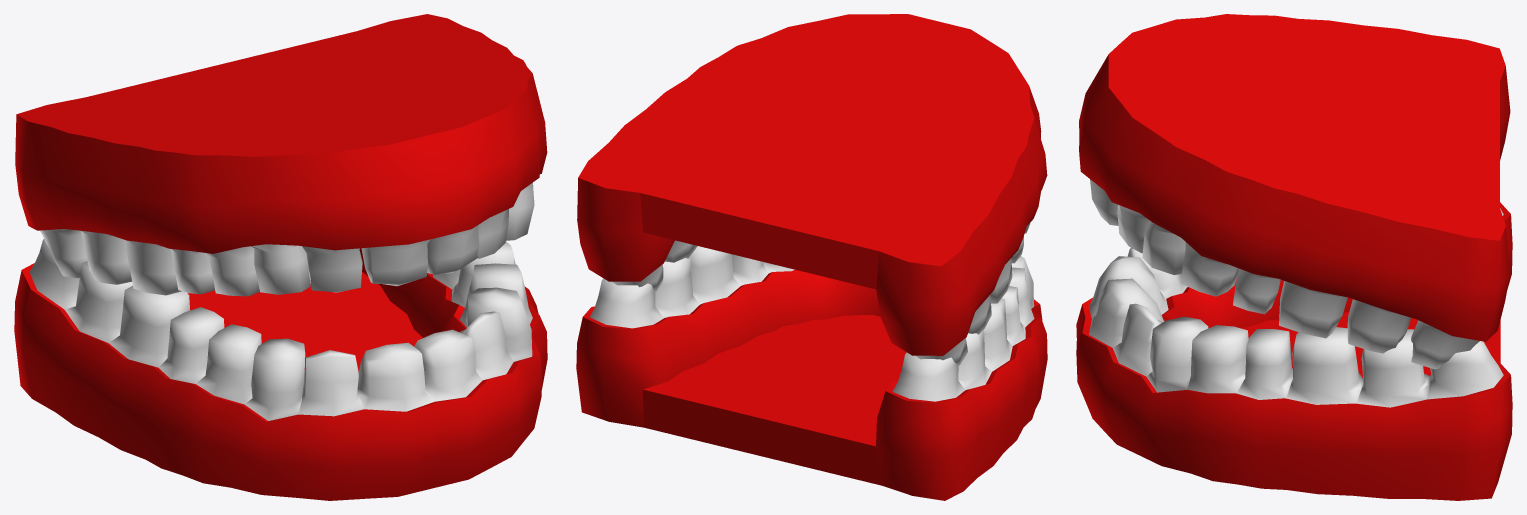
The model's file is SM_Teeth.fbx.
The picture shows the model from 3 angles, left to right: view 1: azimuth 30°, elevation 25°; view 2: azimuth 150°, elevation 25°; view 3: azimuth 270°, elevation 25°; orthographic projection. The views are drawn at different scales.
Visible parts, largest first — view 1: Teeth; view 2: Teeth; view 3: Teeth.
Part boxes in pixels (x1=…): Teeth: x1=14, y1=14, x2=547, y2=500; Teeth: x1=576, y1=14, x2=1047, y2=500; Teeth: x1=1076, y1=14, x2=1512, y2=500.
Size of the model in its own units: 532 by 404 by 481.
